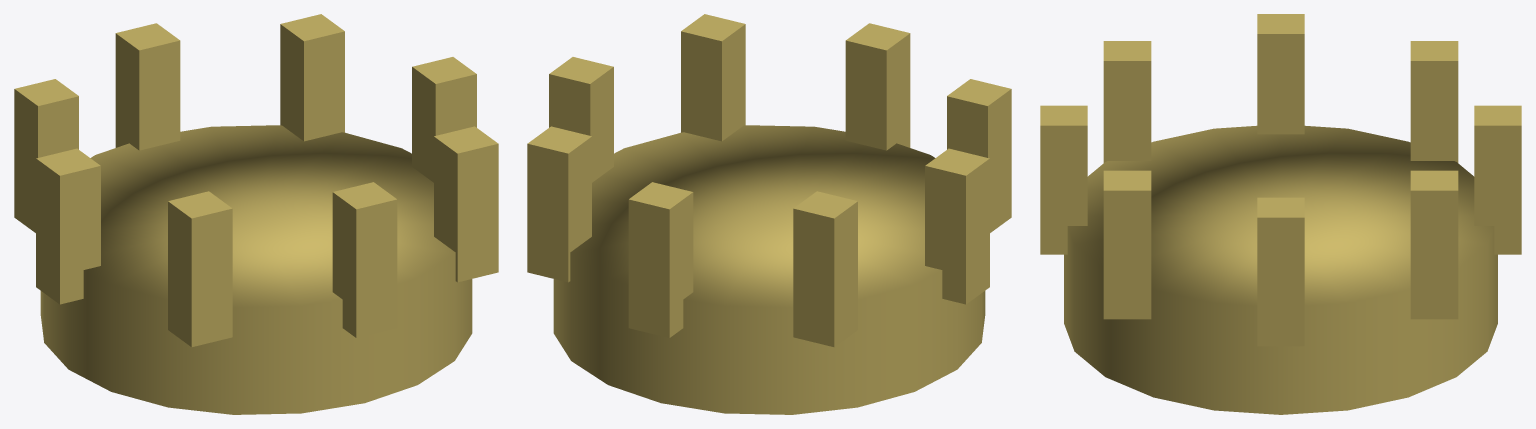
Rendered from equip-crown.glb.
3 views of the same model, side by side, from view 1: azimuth 30°, elevation 25°; view 2: azimuth 150°, elevation 25°; view 3: azimuth 270°, elevation 25° (orthographic).
Parts seen in each view (by area): view 1: equip_crown; view 2: equip_crown; view 3: equip_crown.
Boxes of the visible parts, left/top/right/bottom form: equip_crown: left=14, top=14, right=498, bottom=414; equip_crown: left=527, top=14, right=1011, bottom=414; equip_crown: left=1040, top=14, right=1521, bottom=414.
Bounding box in the file's own units: 1.22 × 0.58 × 1.22.
